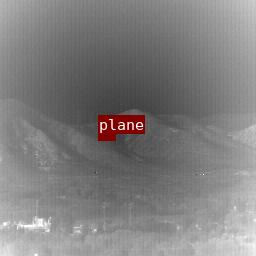plane: (98, 134, 115, 140)
